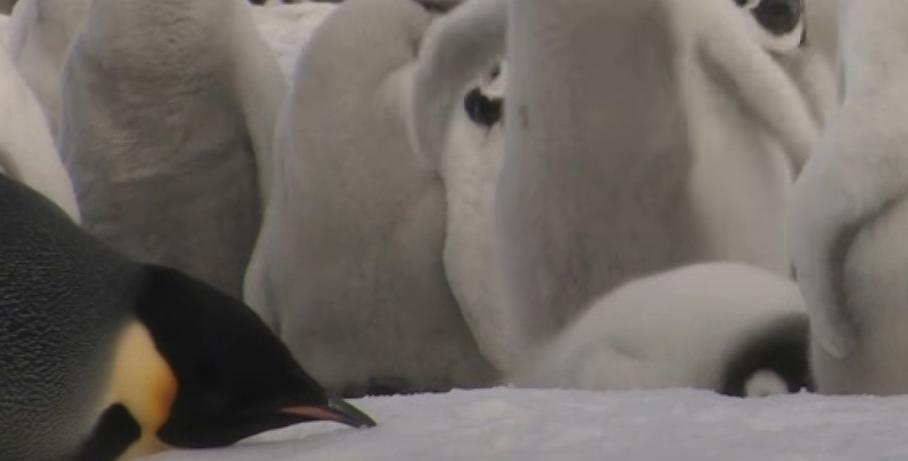Emperor Penguin: (0, 155, 384, 461)
